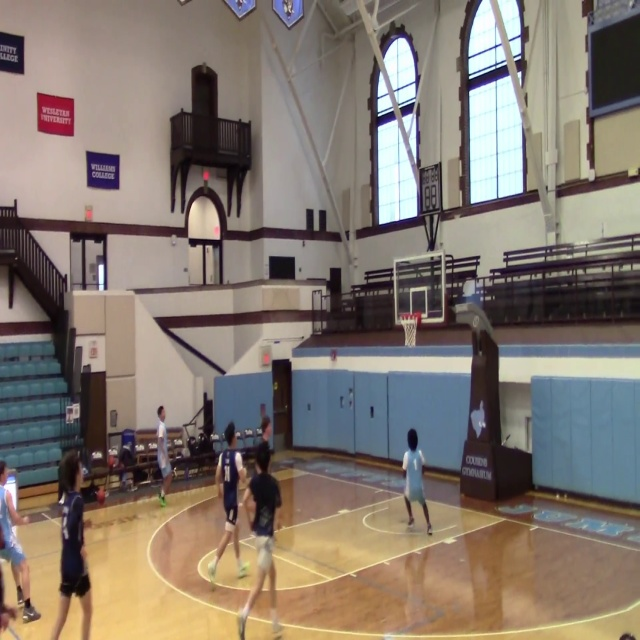Basketball: (238, 561, 251, 577), (207, 561, 216, 577)
